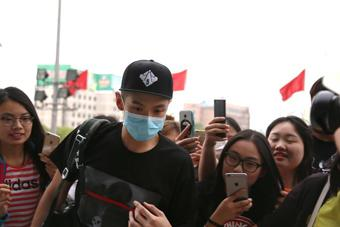NONE: (222, 148, 262, 186), (269, 132, 304, 164), (1, 109, 33, 143)
OK: (125, 98, 168, 141)
